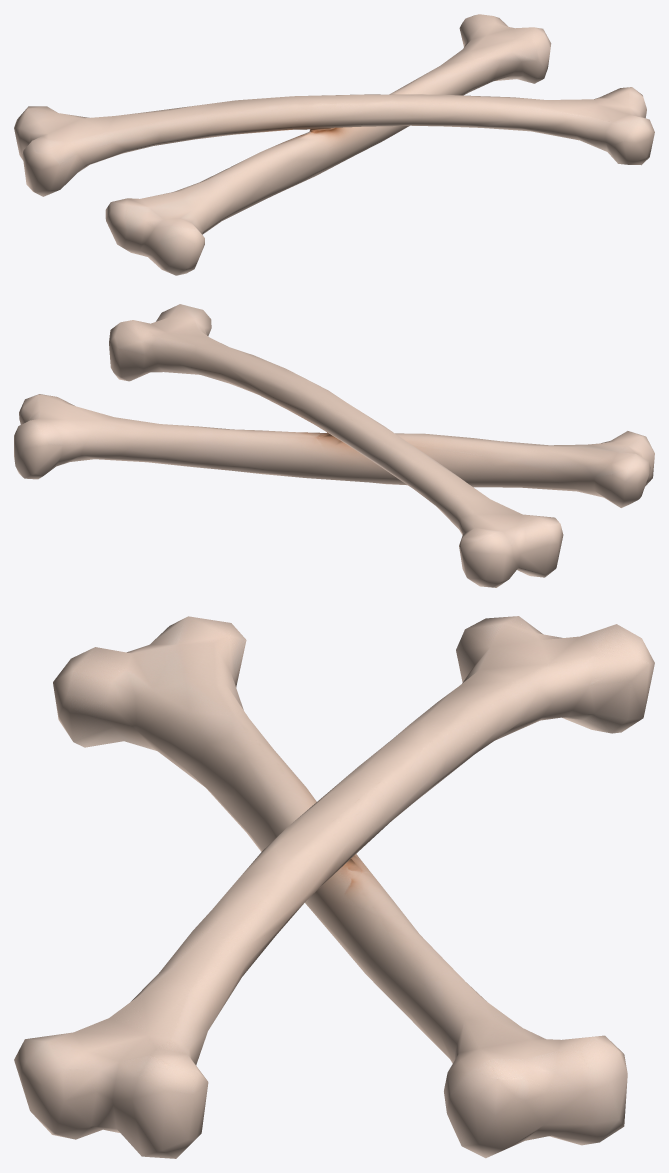
Rendered from bones.glb.
3 views of the same model, one above another, from view 1: azimuth 30°, elevation 25°; view 2: azimuth 150°, elevation 25°; view 3: azimuth 270°, elevation 25° (orthographic). The views are drawn at different scales.
Size of the model in its own units: 2 by 0.2757 by 1.16.
Materials: 1 (1 with a texture image).
